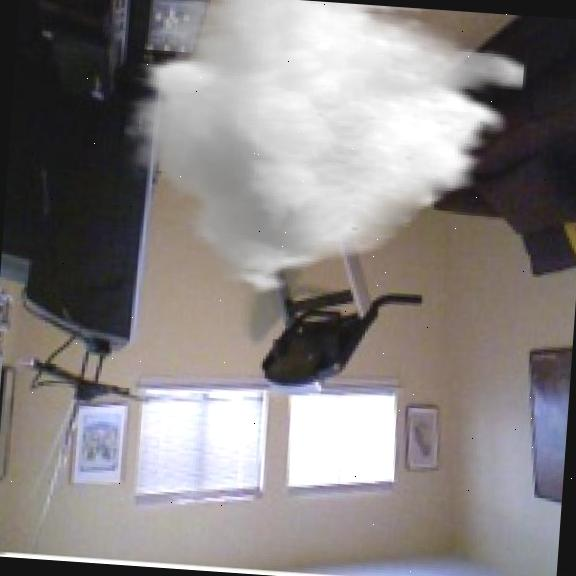smoke: (113, 0, 531, 319)
